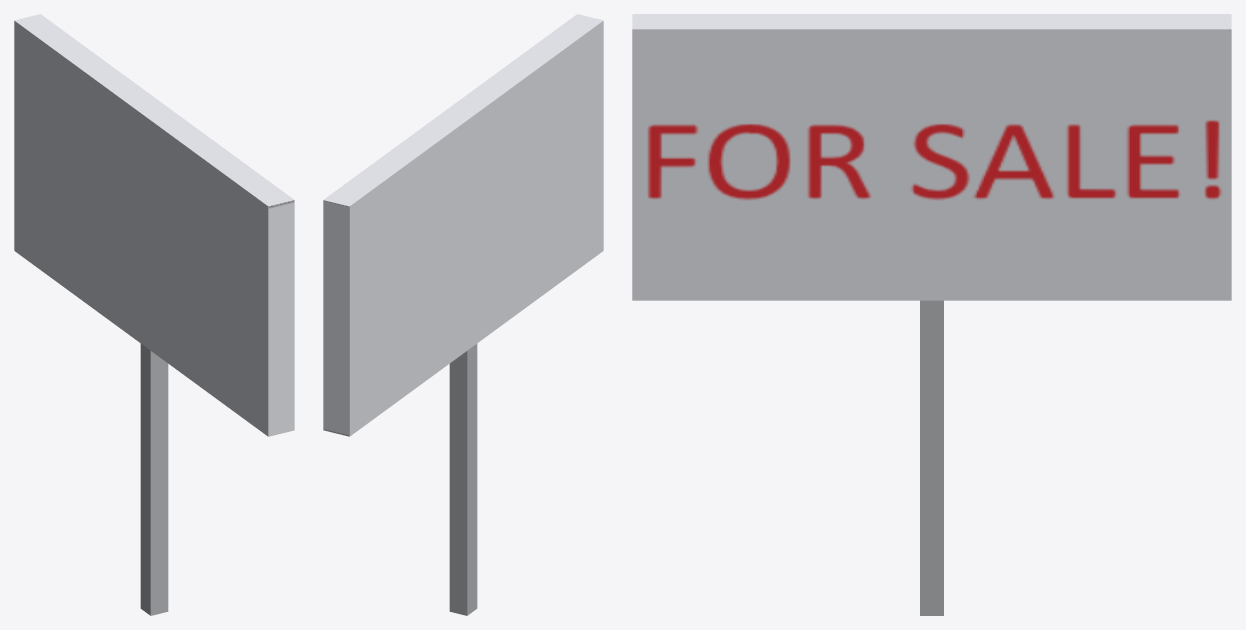
The model's file is sign.obj.
3 views of the same model, side by side, from view 1: azimuth 30°, elevation 25°; view 2: azimuth 150°, elevation 25°; view 3: azimuth 270°, elevation 25° (orthographic). The views are drawn at different scales.
Visible parts, largest first — view 1: Cube.001, Cube; view 2: Cube.001, Cube; view 3: Cube.001, Cube.
Part boxes in pixels (<box>): Cube.001: <box>14,14,294,436</box>; Cube: <box>140,343,168,615</box>; Cube.001: <box>323,14,603,436</box>; Cube: <box>449,343,477,615</box>; Cube.001: <box>632,14,1231,300</box>; Cube: <box>920,300,943,615</box>.
Bounding box in the file's own units: 0.06 × 1.09 × 1.
